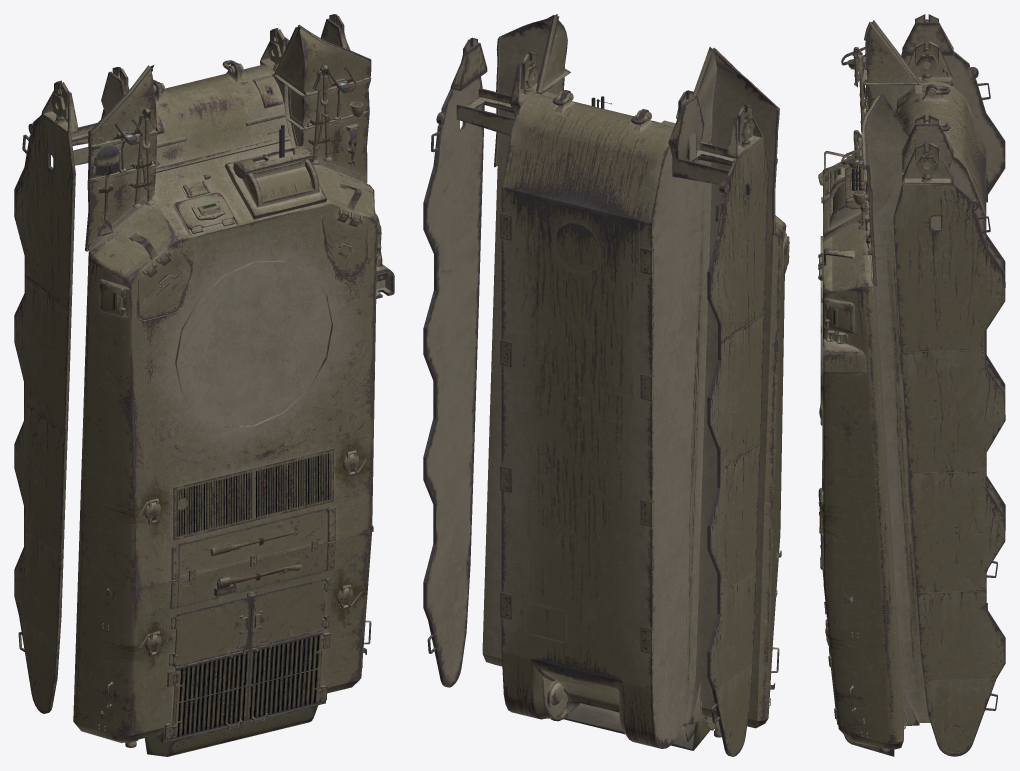
Rendered from Hull.glb.
3 renders of one model, left to right at view 1: azimuth 30°, elevation 25°; view 2: azimuth 150°, elevation 25°; view 3: azimuth 270°, elevation 25°, orthographic. The views are drawn at different scales.
Visible parts, largest first — view 1: set_0_group_0; view 2: set_0_group_0; view 3: set_0_group_0.
Part boxes in pixels (box(x1,y1,x2,y2)): set_0_group_0: box(14, 14, 394, 756); set_0_group_0: box(423, 14, 789, 756); set_0_group_0: box(818, 14, 1005, 756).
Bounding box in the file's own units: 3.14 × 7.26 × 1.84.
Materials: 1 (1 with a texture image).
